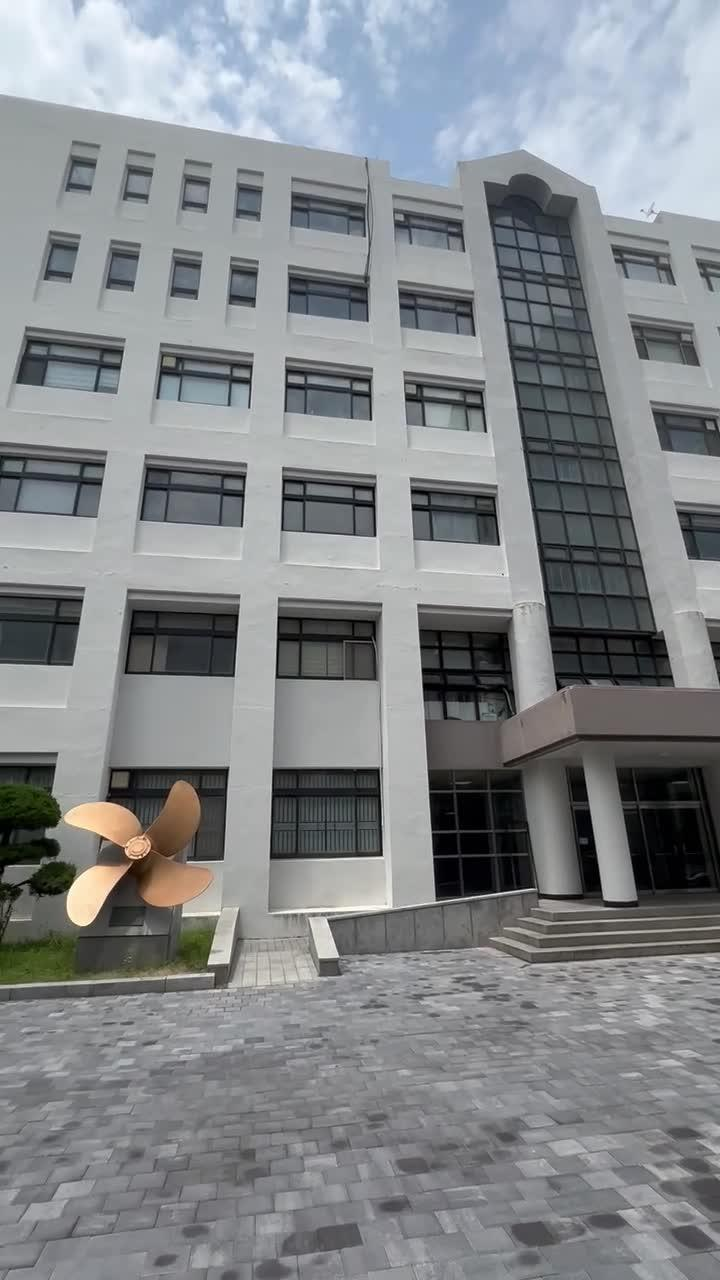building: (10, 98, 720, 940)
